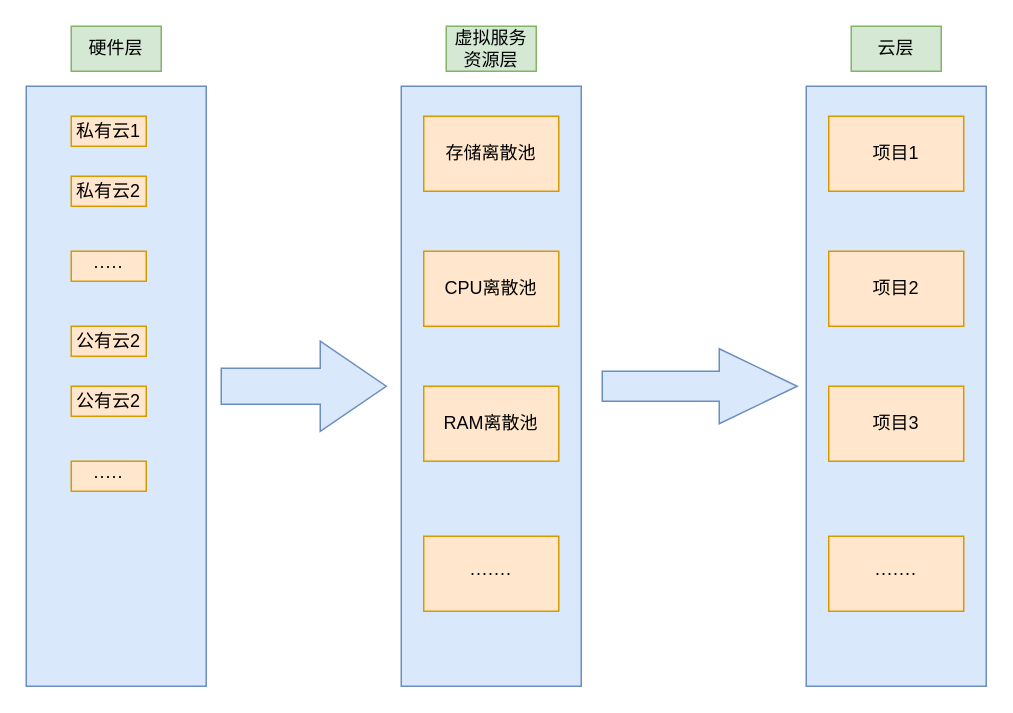
Some shapes in this 1013 by 713 pixel diagram are drawn without their labels. The shapes that lost their labels are listed below. From the top down, each one's centre as x and y in pixels, then its label:
At [303,385]: "虚拟化".
At [699,385]: "按需调用、动态分配".
